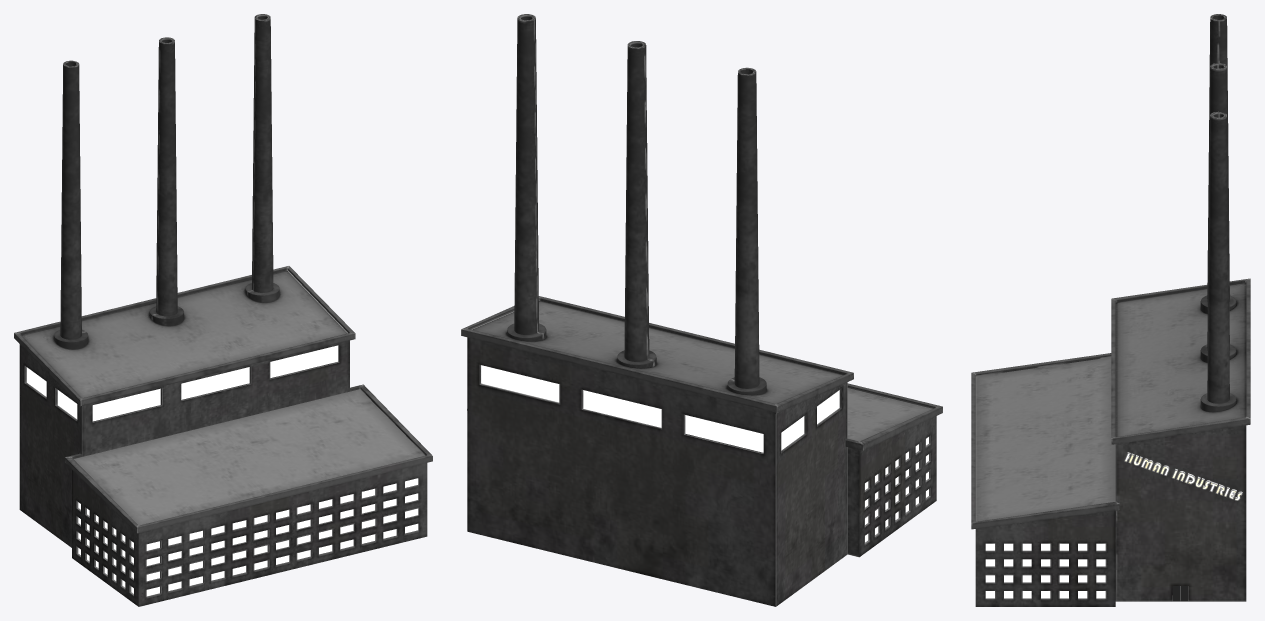
The picture shows the model from 3 angles, left to right: view 1: azimuth 30°, elevation 25°; view 2: azimuth 150°, elevation 25°; view 3: azimuth 270°, elevation 25°; orthographic projection. The views are drawn at different scales.
Parts seen in each view (by area): view 1: Factory_low.002; view 2: Factory_low.002; view 3: Factory_low.002.
Boxes of the visible parts, bbox=[...] form: Factory_low.002: bbox=[14, 14, 432, 606]; Factory_low.002: bbox=[461, 14, 942, 606]; Factory_low.002: bbox=[971, 14, 1250, 606].
Bounding box in the file's own units: 3105 × 4433 × 2402.
1 material, 1 textured.
